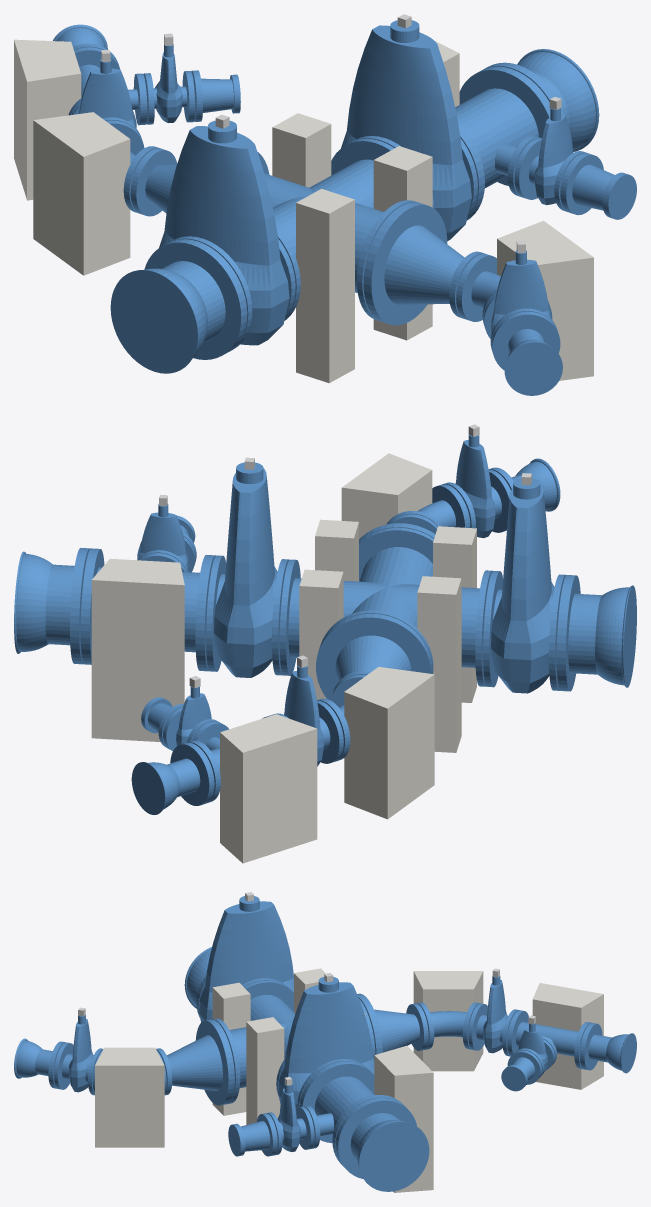
Rendered from nudoC.glb.
The picture shows the model from 3 angles, top to bottom: view 1: azimuth 30°, elevation 25°; view 2: azimuth 150°, elevation 25°; view 3: azimuth 270°, elevation 25°; orthographic projection. The views are drawn at different scales.
Parts seen in each view (by area): view 1: Valvula compuerta DN250 #1, Valvula compuerta DN250 #2, Dado HM-20 #4, Enlace brida-enchufe DN250 #1, Dado HM-20 #7, Reduccion bridas DN250/100 #2, Te bridas DN250/80 #1, Dado HM-20 #5, Cruceta bridas DN250 #1, Dado HM-20 #3, Enlace brida-enchufe DN100 #2, Enlace brida-enchufe DN250 #2 (+14 smaller); view 2: Dado HM-20 #2, Dado HM-20 #3, Valvula compuerta DN250 #2, Valvula compuerta DN250 #1, Dado HM-20 #4, Cruceta bridas DN250 #1, Enlace brida-enchufe DN250 #1, Enlace brida-enchufe DN250 #2, Reduccion bridas DN250/100 #1, Dado HM-20 #1, Dado HM-20 #5, Enlace brida-enchufe DN100 #1 (+14 smaller); view 3: Valvula compuerta DN250 #2, Dado HM-20 #5, Enlace brida-enchufe DN250 #2, Valvula compuerta DN250 #1, Dado HM-20 #4, Dado HM-20 #3, Dado HM-20 #2, Reduccion bridas DN250/100 #2, Te bridas DN250/80 #1, Dado HM-20 #8, Cruceta bridas DN250 #1, Reduccion bridas DN250/100 #1 (+13 smaller).
Boxes of the visible parts, x1=… form: Valvula compuerta DN250 #1: x1=158, y1=120, x2=295, y2=351; Valvula compuerta DN250 #2: x1=341, y1=20, x2=477, y2=240; Dado HM-20 #4: x1=33, y1=112, x2=130, y2=275; Enlace brida-enchufe DN250 #1: x1=110, y1=239, x2=247, y2=373; Dado HM-20 #7: x1=296, y1=189, x2=354, y2=383; Reduccion bridas DN250/100 #2: x1=363, y1=202, x2=485, y2=325; Te bridas DN250/80 #1: x1=455, y1=66, x2=550, y2=220; Dado HM-20 #5: x1=497, y1=220, x2=593, y2=380; Cruceta bridas DN250 #1: x1=257, y1=138, x2=418, y2=321; Dado HM-20 #3: x1=14, y1=39, x2=81, y2=200; Enlace brida-enchufe DN100 #2: x1=491, y1=311, x2=562, y2=395; Enlace brida-enchufe DN250 #2: x1=483, y1=49, x2=599, y2=151; Dado HM-20 #2: x1=91, y1=558, x2=184, y2=741; Dado HM-20 #3: x1=220, y1=714, x2=317, y2=863; Valvula compuerta DN250 #2: x1=206, y1=462, x2=289, y2=677; Valvula compuerta DN250 #1: x1=483, y1=478, x2=566, y2=693; Dado HM-20 #4: x1=344, y1=667, x2=434, y2=819; Cruceta bridas DN250 #1: x1=279, y1=527, x2=492, y2=686; Enlace brida-enchufe DN250 #1: x1=556, y1=575, x2=636, y2=691; Enlace brida-enchufe DN250 #2: x1=14, y1=548, x2=90, y2=664; Reduccion bridas DN250/100 #1: x1=316, y1=613, x2=432, y2=700; Dado HM-20 #1: x1=417, y1=576, x2=461, y2=752; Dado HM-20 #5: x1=341, y1=453, x2=432, y2=538; Enlace brida-enchufe DN100 #1: x1=131, y1=742, x2=214, y2=814; Valvula compuerta DN250 #2: x1=278, y1=977, x2=374, y2=1109; Dado HM-20 #5: x1=95, y1=1047, x2=164, y2=1147; Enlace brida-enchufe DN250 #2: x1=335, y1=1098, x2=429, y2=1191; Valvula compuerta DN250 #1: x1=199, y1=896, x2=293, y2=1022; Dado HM-20 #4: x1=413, y1=971, x2=483, y2=1071; Dado HM-20 #3: x1=532, y1=983, x2=603, y2=1089; Dado HM-20 #2: x1=374, y1=1045, x2=433, y2=1192; Reduccion bridas DN250/100 #2: x1=156, y1=1019, x2=234, y2=1105; Te bridas DN250/80 #1: x1=299, y1=1061, x2=405, y2=1165; Dado HM-20 #8: x1=246, y1=1017, x2=284, y2=1124; Cruceta bridas DN250 #1: x1=212, y1=980, x2=375, y2=1103; Reduccion bridas DN250/100 #1: x1=357, y1=993, x2=428, y2=1054.
Size of the model in its own units: 2.09 by 0.94 by 2.89.
